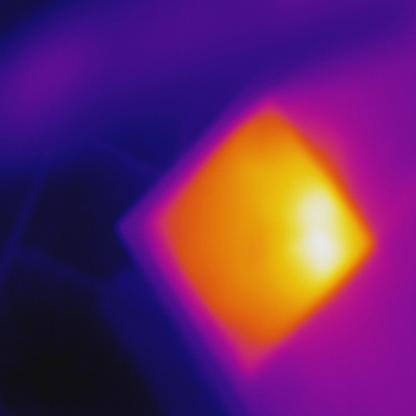hotspot: (136, 103, 392, 360)
